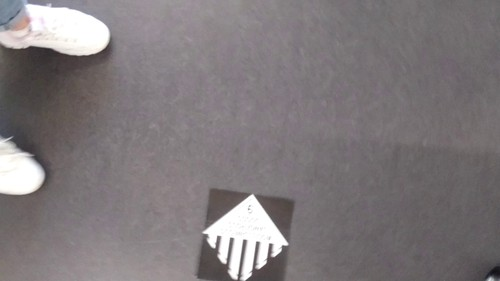misgoods: (198, 190, 290, 281)
